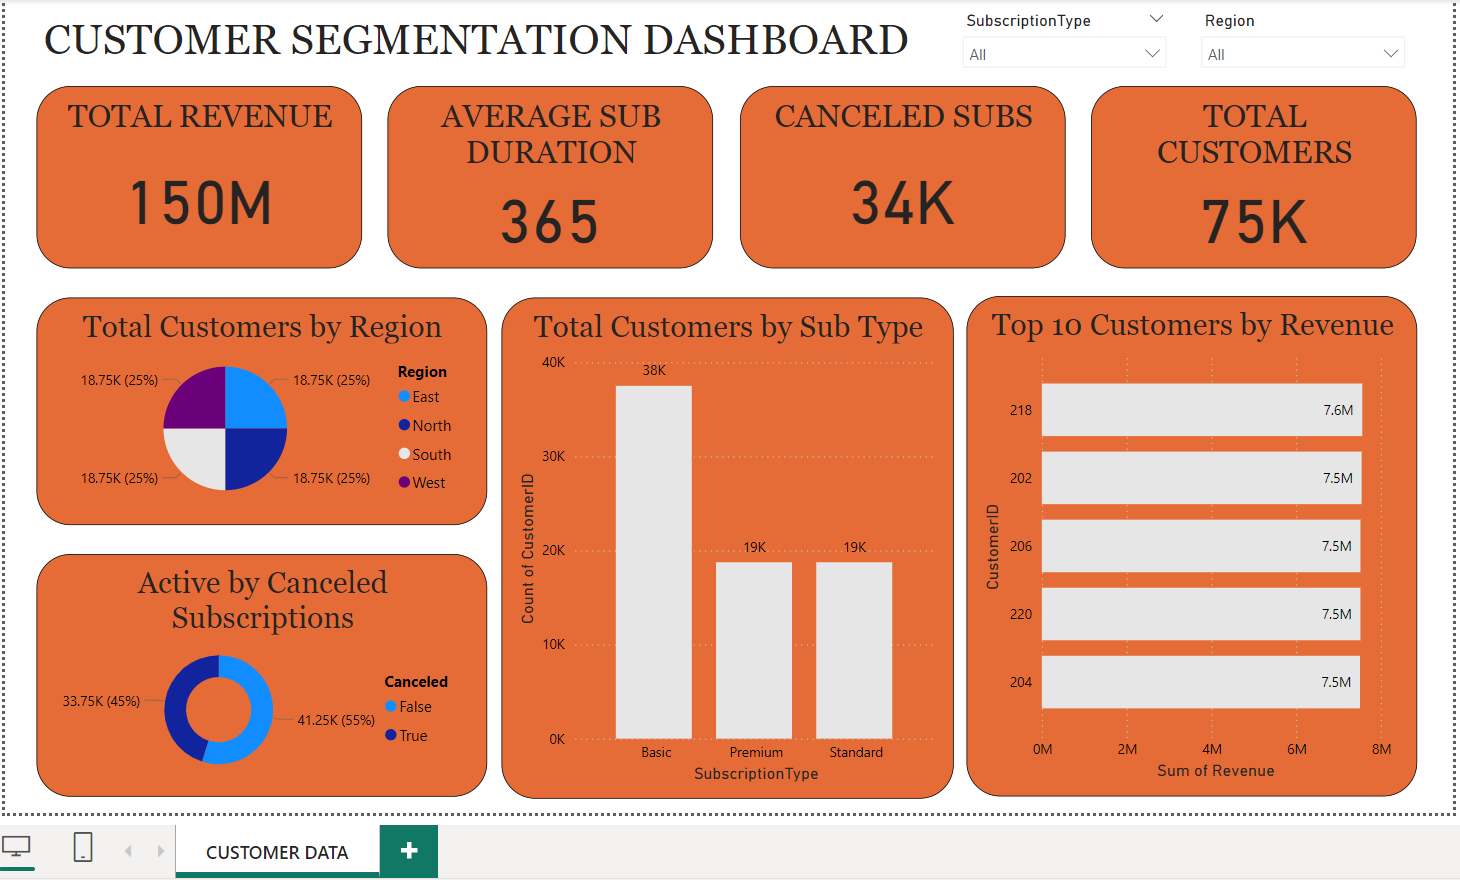

What the dashboard file says about the page in this screenshot:
{"tool":"powerbi","page":{"name":"CUSTOMER DATA","canvas":[1280,720],"ordinal":0},"visuals":[{"type":"card","title":"TOTAL REVENUE","fields":{"Values":["Sum(CustomerData.Revenue)"]},"box":[27.9,77,288,161.5],"z":0},{"type":"card","title":"AVERAGE SUB DURATION","fields":{"Values":["Avg(CustomerData.SubDuration)"]},"box":[338.7,77,288,161.5],"z":1000},{"type":"card","title":"CANCELED SUBS","fields":{"Values":["Sum(CustomerData.Canceled Status)"]},"box":[649.5,77,288,161.5],"z":2000},{"type":"card","title":"TOTAL CUSTOMERS","fields":{"Values":["CountNonNull(CustomerData.CustomerID)"]},"box":[960.3,77,288,161.5],"z":3000},{"type":"clusteredColumnChart","title":"Total Customers by Sub Type","fields":{"Category":["CustomerData.SubscriptionType"],"Y":["CountNonNull(CustomerData.CustomerID)"]},"box":[438.9,263.7,400.1,443.6],"z":4000},{"type":"barChart","title":"Top 10 Customers by Revenue","fields":{"Category":["CustomerData.CustomerID"],"Y":["Sum(CustomerData.Revenue)"]},"box":[850.6,263.1,399,442.8],"z":5000},{"type":"pieChart","title":"Total Customers by Region","fields":{"Y":["CountNonNull(CustomerData.CustomerID)"],"Category":["CustomerData.Region"]},"box":[27.9,263.7,398.6,201.6],"z":6000},{"type":"donutChart","title":"Active by Canceled Subscriptions","fields":{"Category":["CustomerData.Canceled"],"Y":["CountNonNull(CustomerData.CustomerID)"]},"box":[27.8,491.1,399,214.8],"z":7000},{"type":"textbox","box":[29.5,9.3,820.4,55.8],"z":8000},{"type":"slicer","fields":{"Values":["CustomerData.Region"]},"box":[1048.4,5.9,200.1,58.9],"z":9000},{"type":"slicer","fields":{"Values":["CustomerData.SubscriptionType"]},"box":[837.5,5.9,200.1,58.9],"z":10000}]}

Visuals, with their boxes in screenshot pixels (x1, y1, x2, y2):
"TOTAL REVENUE" card: <bbox>35, 83, 359, 264</bbox>
"AVERAGE SUB DURATION" card: <bbox>385, 83, 709, 264</bbox>
"CANCELED SUBS" card: <bbox>734, 83, 1058, 264</bbox>
"TOTAL CUSTOMERS" card: <bbox>1084, 83, 1408, 264</bbox>
"Total Customers by Sub Type" clusteredColumnChart: <bbox>498, 293, 948, 792</bbox>
"Top 10 Customers by Revenue" barChart: <bbox>961, 292, 1409, 790</bbox>
"Total Customers by Region" pieChart: <bbox>35, 293, 484, 520</bbox>
"Active by Canceled Subscriptions" donutChart: <bbox>35, 549, 484, 790</bbox>
textbox: <bbox>37, 7, 960, 69</bbox>
slicer - CustomerData.Region: <bbox>1183, 3, 1408, 69</bbox>
slicer - CustomerData.SubscriptionType: <bbox>946, 3, 1171, 69</bbox>
